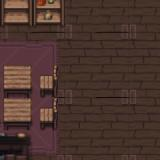Hide: (0, 132, 35, 160)
Obstacle: (2, 64, 37, 97), (3, 97, 37, 130), (0, 0, 33, 32), (33, 0, 65, 32), (36, 97, 65, 131), (37, 64, 64, 97)
